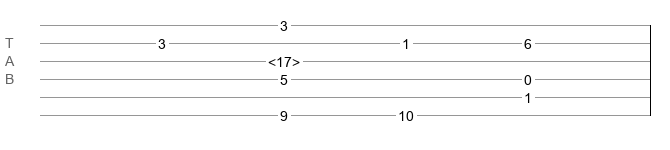0: (524, 72, 532, 82)
1: (402, 36, 410, 46), (524, 90, 532, 100)
10: (398, 108, 414, 118)
3: (158, 36, 166, 46), (280, 18, 288, 28)
5: (280, 72, 288, 82)
6: (524, 36, 532, 46)
9: (280, 108, 288, 118)
harmonic: (268, 54, 300, 64)
